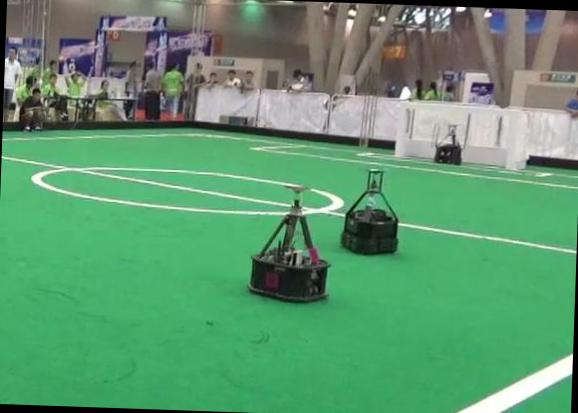goal: (505, 109, 519, 168), (395, 103, 407, 156)
robot: (249, 185, 330, 300), (341, 169, 398, 252), (434, 123, 462, 163)
